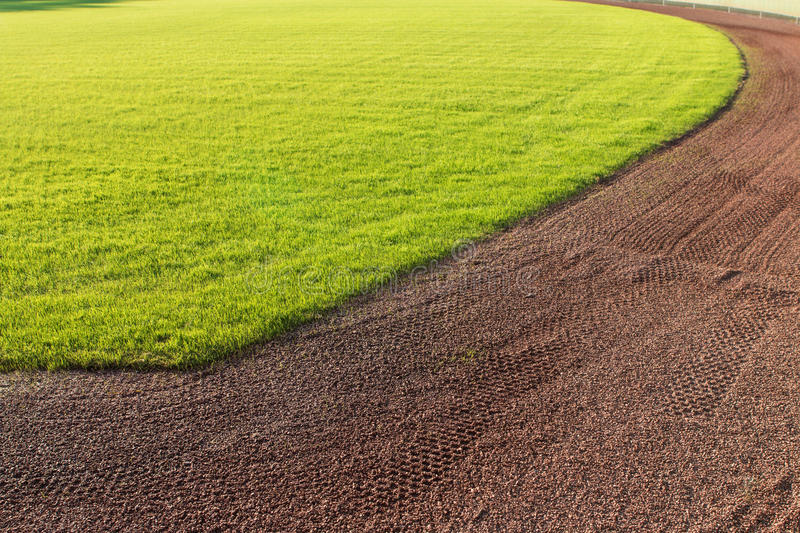dirt: (6, 358, 789, 520), (604, 138, 795, 351), (478, 198, 596, 360), (283, 266, 473, 357), (741, 16, 797, 134)
grass: (2, 1, 740, 129), (2, 135, 278, 360), (283, 135, 482, 263)
